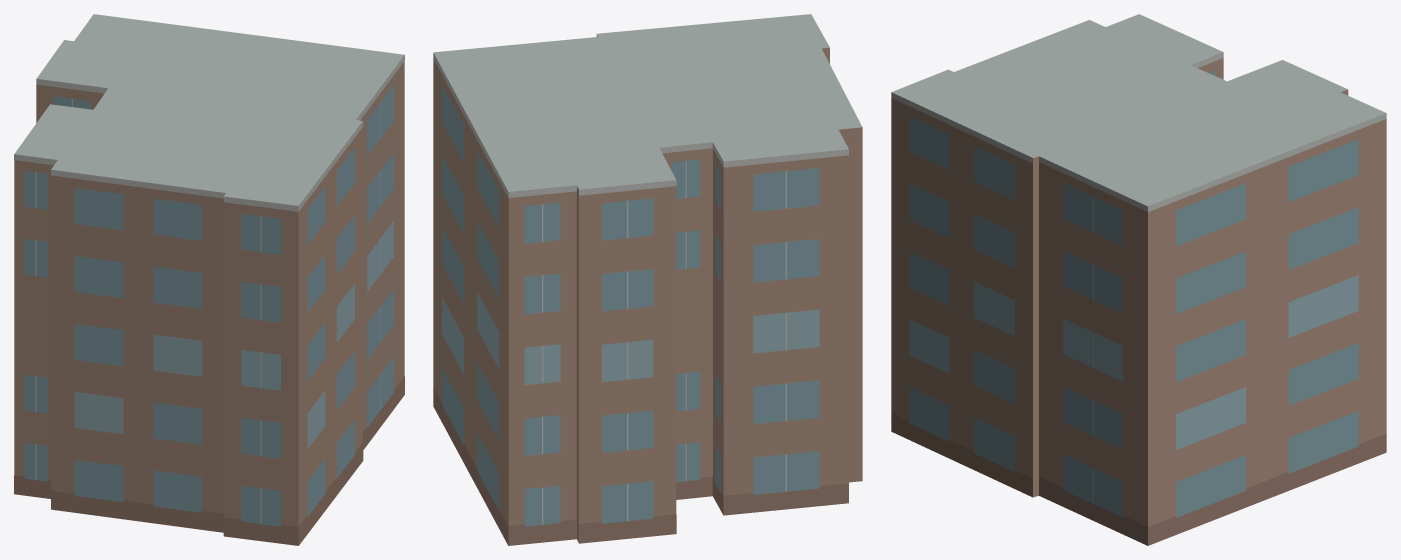
File: survey-upis-32961377.glb
3 renders of one model, left to right at view 1: azimuth 30°, elevation 25°; view 2: azimuth 150°, elevation 25°; view 3: azimuth 270°, elevation 25°, orthographic. The views are drawn at different scales.
Visible parts, largest first — view 1: survey-upis-32961377.tmp; view 2: survey-upis-32961377.tmp; view 3: survey-upis-32961377.tmp.
Boxes of the visible parts, box(x1,y1,x2,y2) form: survey-upis-32961377.tmp: box(14, 14, 404, 545); survey-upis-32961377.tmp: box(433, 14, 862, 545); survey-upis-32961377.tmp: box(891, 14, 1386, 545).
Bounding box in the file's own units: 17.58 × 14.45 × 19.11.
